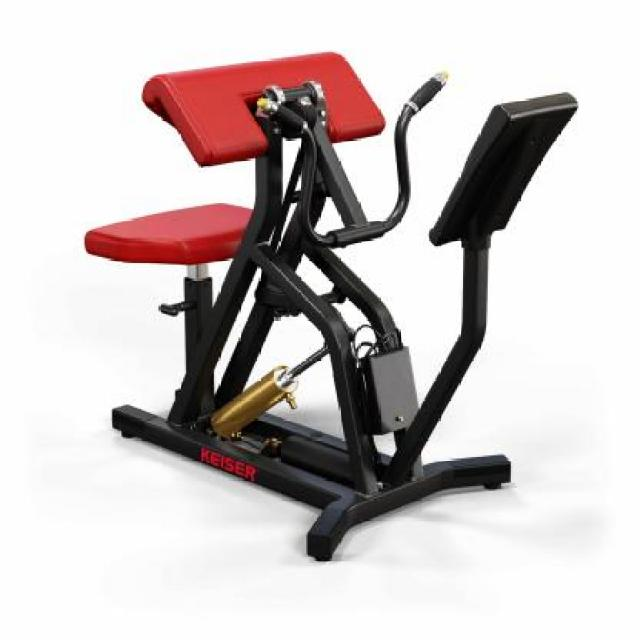arm curl machine: (87, 51, 576, 563)
